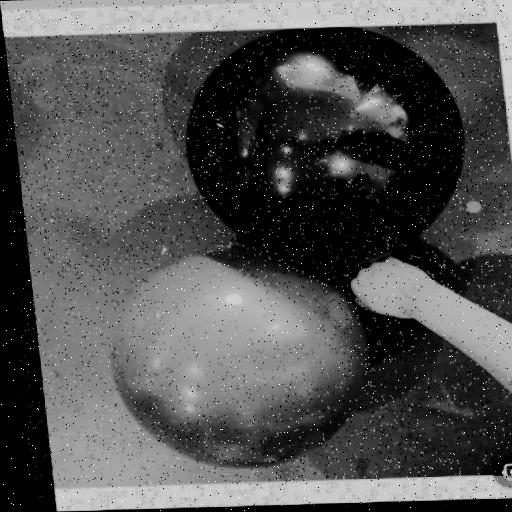balloon: (173, 25, 472, 247), (95, 255, 377, 477)
